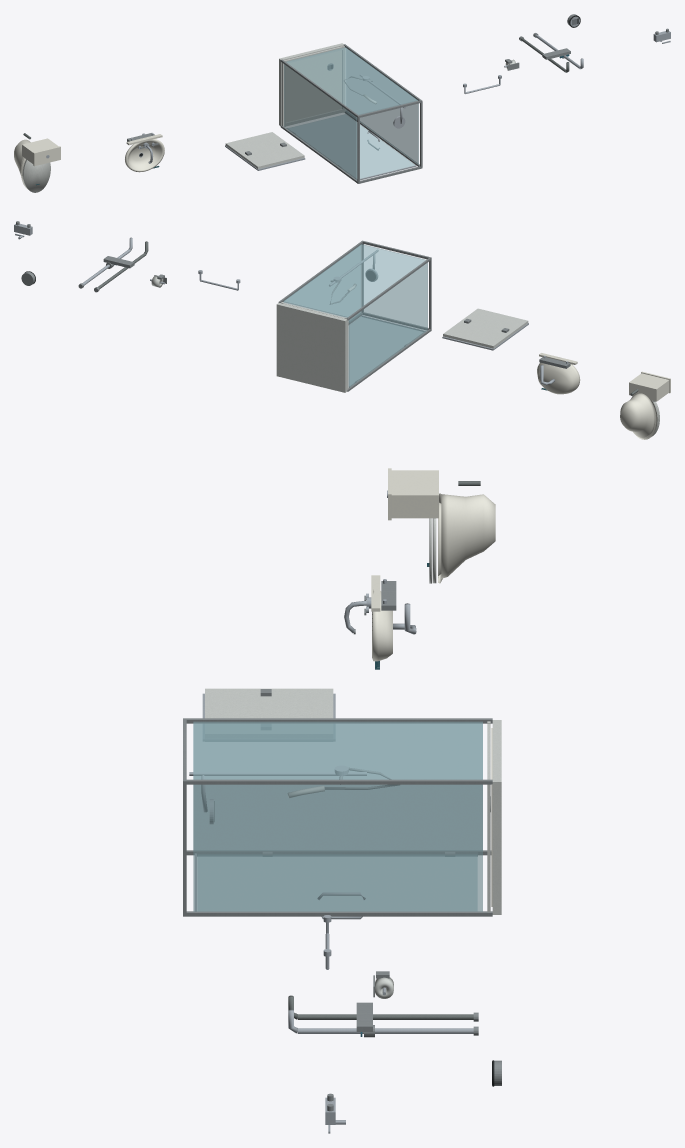
The model's file is PROJECT_Z_Bathroom_Fixture_Kit.glb.
3 views of the same model, one above another, from view 1: azimuth 30°, elevation 25°; view 2: azimuth 150°, elevation 25°; view 3: azimuth 270°, elevation 25° (orthographic). The views are drawn at different scales.
Visible parts, largest first — view 1: RENDER_Shower_GlassLeft, RENDER_Shower_GlassRear, RENDER_Shower_GlassRight, RENDER_Shower_Door_TemperedGlass, RENDER_Shower_TrayTop, RENDER_Mirror_FrameBacking, RENDER_Sink_CeramicBasin, RENDER_Toilet_Lid, RENDER_Toilet_TankCeramic, RENDER_Shower_LowProfileTray, RENDER_Toilet_TankLid, RENDER_Shower_Frame_Left_Rear (+1 smaller); view 2: RENDER_Shower_GlassLeft, RENDER_Shower_LowProfileTray, RENDER_Shower_GlassRear, RENDER_Shower_Door_TemperedGlass, RENDER_Shower_GlassRight, RENDER_Mirror_FrameBacking, RENDER_Toilet_Pedestal, RENDER_Sink_CeramicBasin, RENDER_Toilet_TankCeramic, RENDER_Shower_Frame_Left_Rear, RENDER_Shower_Frame_Left_Front; view 3: RENDER_Shower_GlassRight, RENDER_Shower_GlassLeft, RENDER_Shower_GlassRear, RENDER_Shower_Door_TemperedGlass, RENDER_Mirror_FrameBacking, RENDER_Toilet_Pedestal, RENDER_Toilet_TankCeramic, RENDER_Shower_LowProfileTray, RENDER_Shower_Frame_Right_Rear, RENDER_Shower_Frame_Right_Front, RENDER_Shower_Frame_Left_Rear, RENDER_Sink_CeramicBasin (+2 smaller).
Boxes of the visible parts, bbox=[...] form: RENDER_Shower_GlassLeft: bbox=[284, 64, 356, 179]; RENDER_Shower_GlassRear: bbox=[286, 47, 417, 114]; RENDER_Shower_GlassRight: bbox=[346, 49, 418, 164]; RENDER_Shower_Door_TemperedGlass: bbox=[288, 114, 414, 178]; RENDER_Shower_TrayTop: bbox=[286, 50, 341, 122]; RENDER_Mirror_FrameBacking: bbox=[225, 132, 304, 168]; RENDER_Sink_CeramicBasin: bbox=[125, 139, 164, 172]; RENDER_Toilet_Lid: bbox=[23, 160, 50, 192]; RENDER_Toilet_TankCeramic: bbox=[22, 138, 58, 163]; RENDER_Shower_LowProfileTray: bbox=[279, 43, 343, 125]; RENDER_Toilet_TankLid: bbox=[33, 146, 60, 166]; RENDER_Shower_Frame_Left_Rear: bbox=[280, 59, 358, 117]; RENDER_Shower_GlassLeft: bbox=[349, 262, 427, 387]; RENDER_Shower_LowProfileTray: bbox=[276, 302, 347, 392]; RENDER_Shower_GlassRear: bbox=[283, 244, 425, 317]; RENDER_Shower_Door_TemperedGlass: bbox=[348, 316, 423, 386]; RENDER_Shower_GlassRight: bbox=[283, 246, 360, 322]; RENDER_Mirror_FrameBacking: bbox=[443, 308, 528, 348]; RENDER_Toilet_Pedestal: bbox=[620, 393, 655, 437]; RENDER_Sink_CeramicBasin: bbox=[537, 357, 580, 394]; RENDER_Toilet_TankCeramic: bbox=[629, 373, 669, 401]; RENDER_Shower_Frame_Left_Rear: bbox=[346, 258, 431, 320]; RENDER_Shower_Frame_Left_Front: bbox=[347, 329, 431, 391]; RENDER_Shower_GlassRight: bbox=[193, 784, 482, 911]; RENDER_Shower_GlassLeft: bbox=[193, 724, 482, 850]; RENDER_Shower_GlassRear: bbox=[193, 721, 482, 779]; RENDER_Shower_Door_TemperedGlass: bbox=[197, 855, 477, 910]; RENDER_Mirror_FrameBacking: bbox=[205, 688, 333, 737]; RENDER_Toilet_Pedestal: bbox=[441, 494, 495, 578]; RENDER_Toilet_TankCeramic: bbox=[391, 470, 438, 518]; RENDER_Shower_LowProfileTray: bbox=[492, 720, 501, 914]; RENDER_Shower_Frame_Right_Rear: bbox=[183, 779, 492, 784]; RENDER_Shower_Frame_Right_Front: bbox=[183, 911, 492, 916]; RENDER_Shower_Frame_Left_Rear: bbox=[186, 718, 492, 723]; RENDER_Sink_CeramicBasin: bbox=[372, 589, 392, 661].
Size of the model in its own units: 9.6 by 1.08 by 2.13.
Materials: 10 (10 with a texture image).
